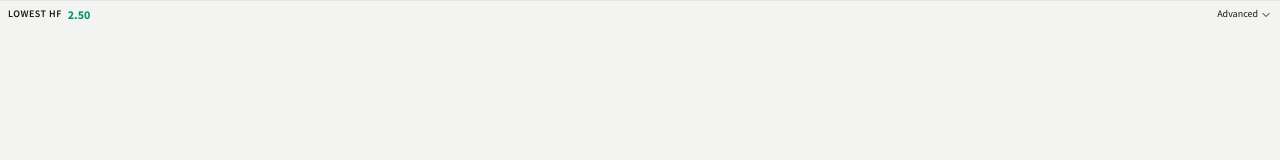
Test: PortfolioSummaryBar — Advanced section typography (AAV-1304) › per-pool Health Factor value is font-bold (E6)
The width and height of the screenshot is (1280, 160).
Click the button with test id "portfolio-advanced-toggle" at (1245, 15), box [1217, 8, 1272, 21]
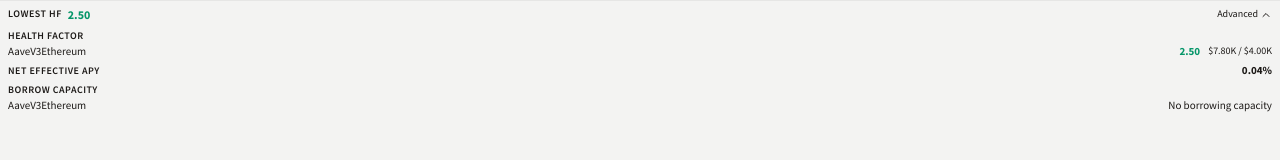
expect the text with class "font-bold" next to "$7.80K" is shown: met, box [1179, 44, 1200, 58]
